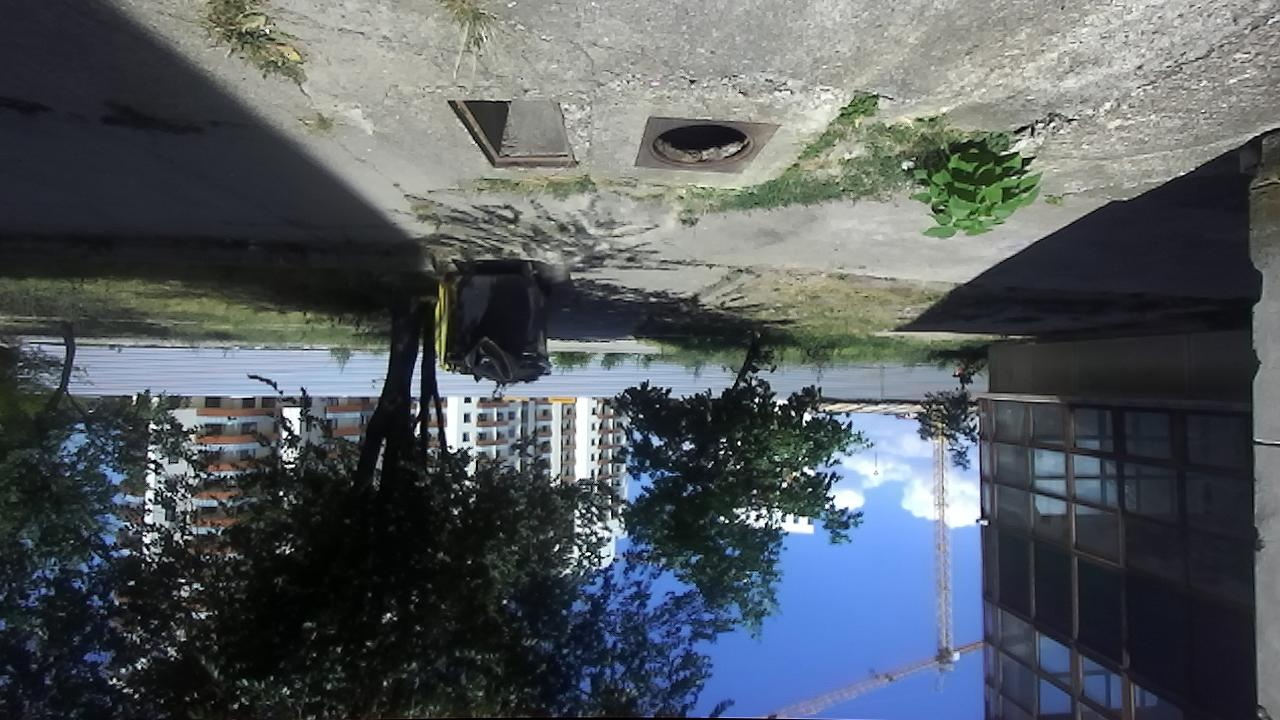drain: (444, 93, 581, 175), (644, 121, 755, 170)
